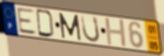6: (128, 20, 146, 51)
D: (35, 8, 56, 39)
E: (16, 7, 38, 36)
H: (104, 17, 128, 48)
M: (58, 12, 83, 42)
U: (80, 15, 101, 44)
